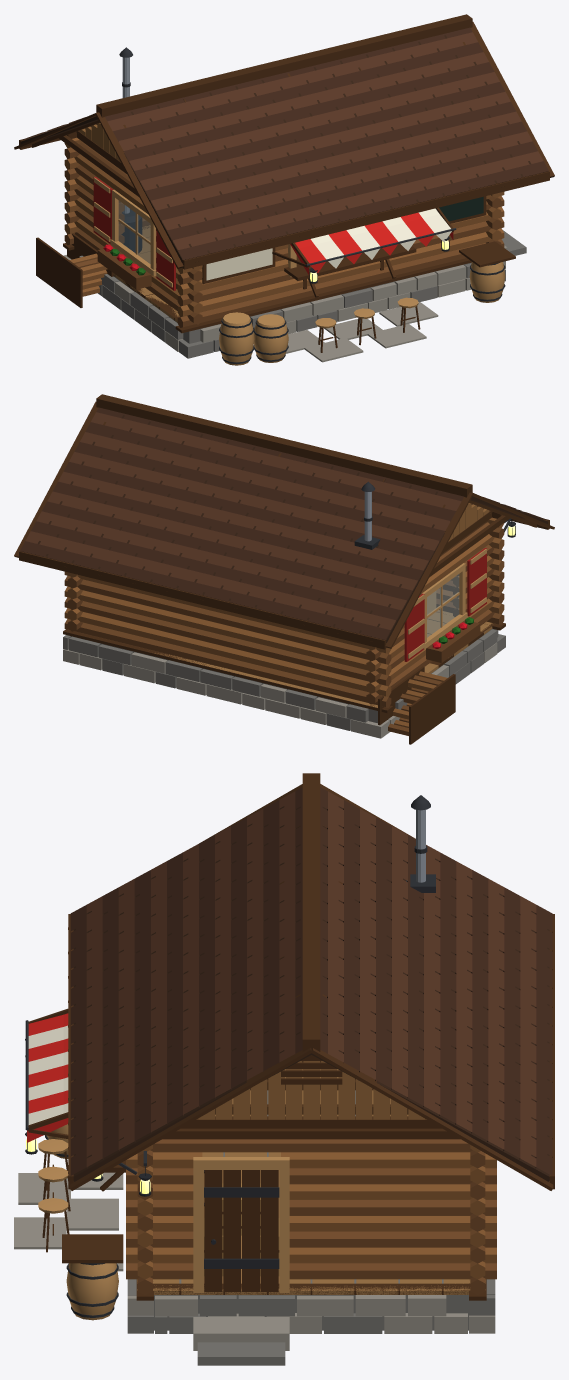
File: halfway_hut.glb
The picture shows the model from 3 angles, top to bottom: view 1: azimuth 30°, elevation 25°; view 2: azimuth 150°, elevation 25°; view 3: azimuth 270°, elevation 25°; orthographic projection. The views are drawn at different scales.
Visible parts, largest first — view 1: halfway_hut_mesh; view 2: halfway_hut_mesh; view 3: halfway_hut_mesh.
Boxes of the visible parts, bbox=[...] form: halfway_hut_mesh: bbox=[14, 14, 554, 365]; halfway_hut_mesh: bbox=[14, 394, 554, 744]; halfway_hut_mesh: bbox=[14, 773, 554, 1365].
Bounding box in the file's own units: 7.61 × 4.26 × 6.18.
